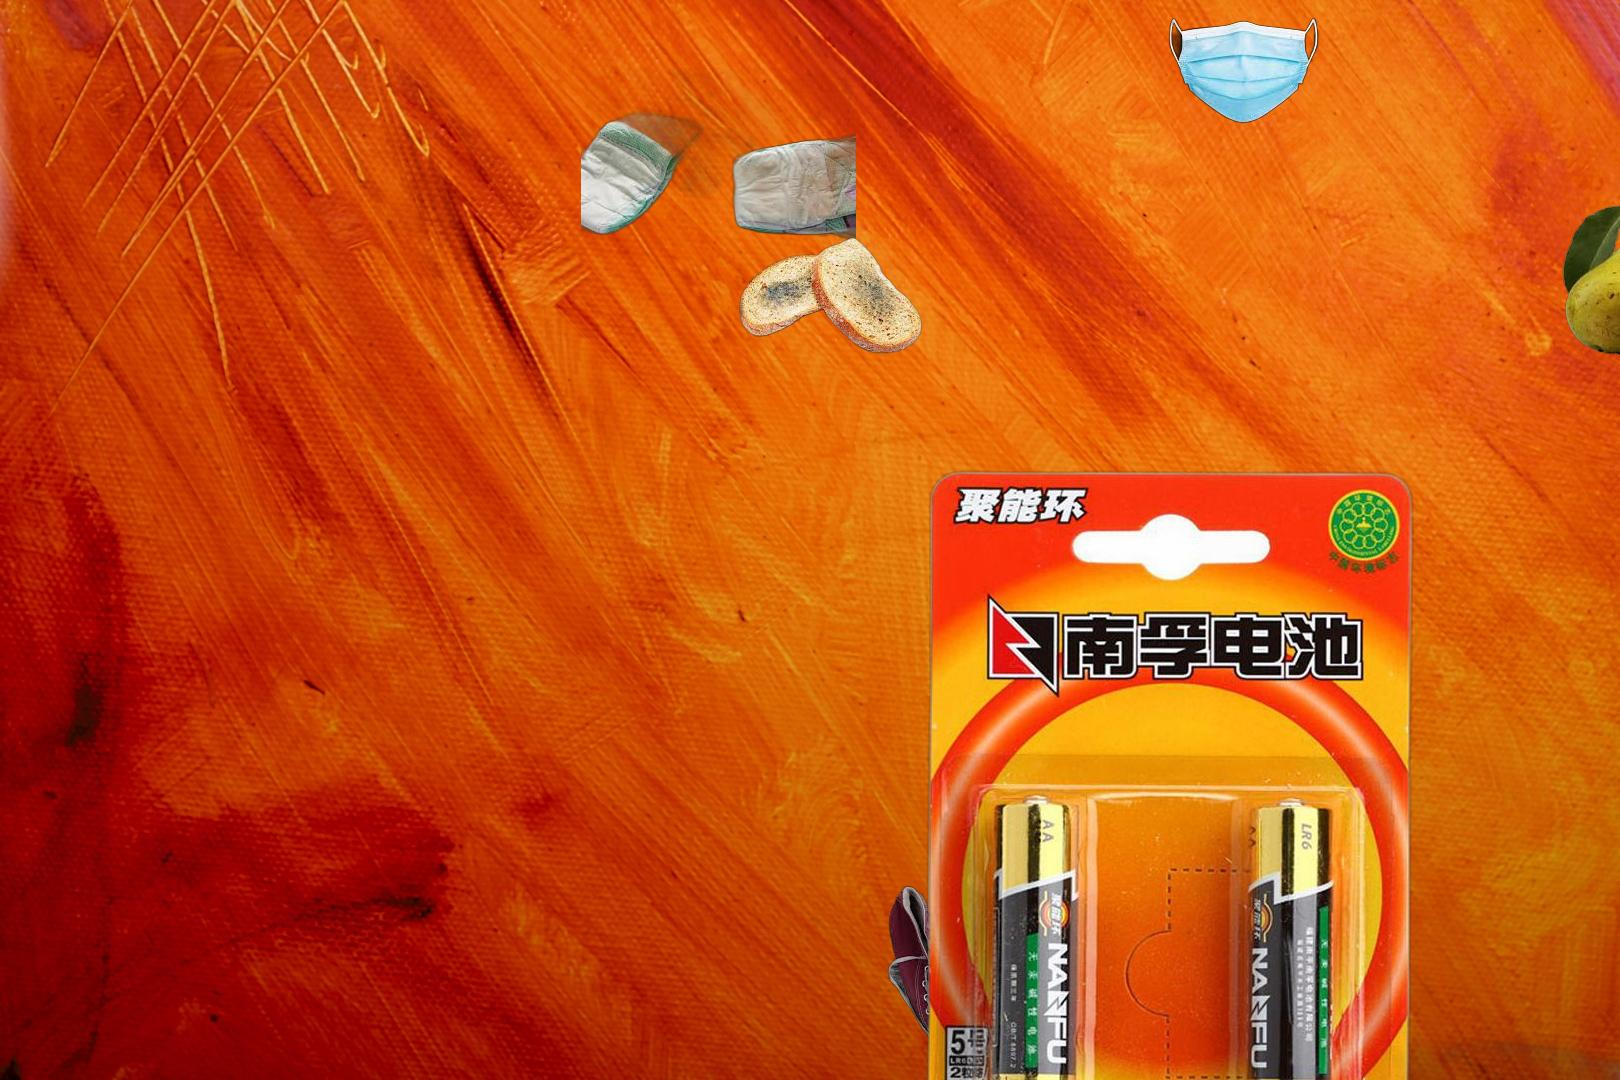battery: (920, 465, 1419, 1080)
biological: (736, 235, 923, 356), (1560, 176, 1620, 370)
penholder: (1392, 968, 1620, 1080)
shoes: (886, 884, 1066, 1062)
trash: (581, 67, 856, 251), (1167, 16, 1323, 127)
